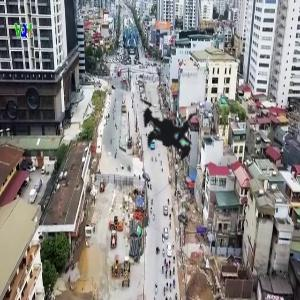drone: (72, 34, 279, 241)
